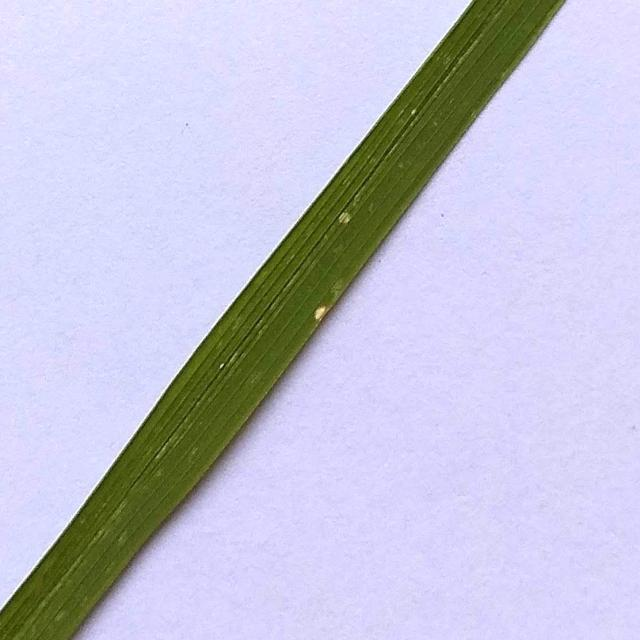Blast: (312, 304, 326, 322), (336, 212, 354, 224)
